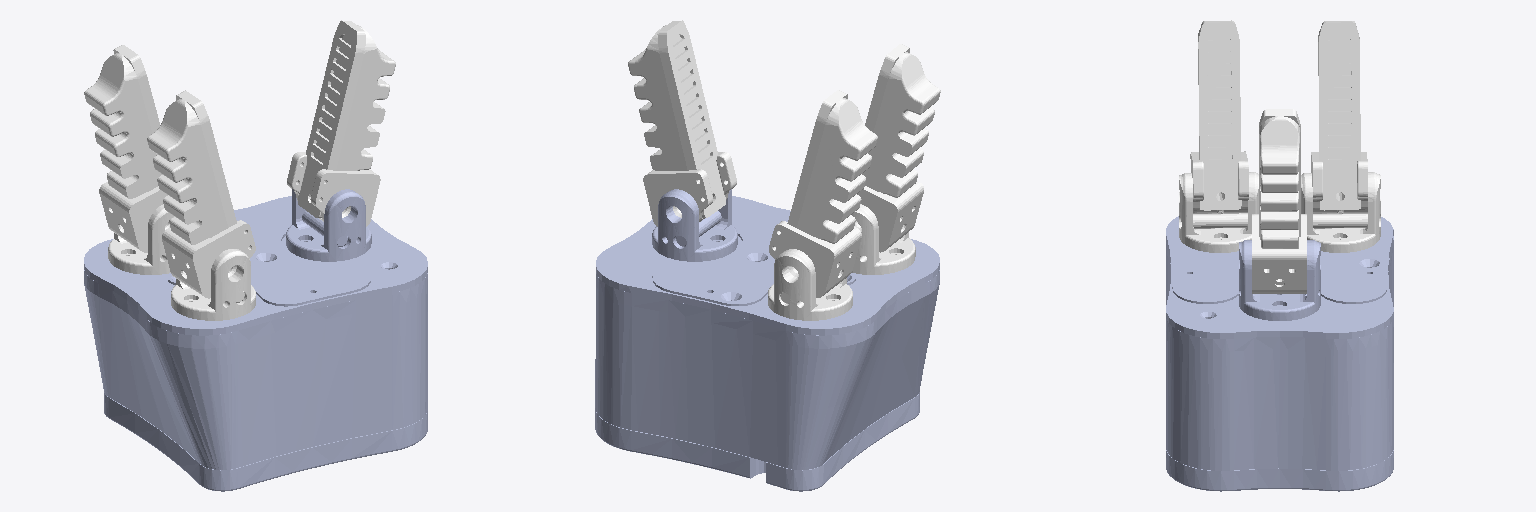
robot.urdf — soft_pneu_3f:
<?xml version="1.0"?>
<!-- This URDF was automatically created by SolidWorks to URDF Exporter! Originally created by [author] ([email redacted]) 
     Commit Version: 1.6.0-4-g7f85cfe  Build Version: 1.6.7995.38578
     For more information, please see http://wiki.ros.org/sw_urdf_exporter -->
<robot
  name="soft_pneu_3f">
  <link
    name="base_link">
    <inertial>
      <origin
        xyz="0.0131541798734828 -0.000471634914928765 -0.0423127669420445"
        rpy="0 0 0" />
      <mass
        value="0.205660698634823" />
      <inertia
        ixx="0.000192315167570555"
        ixy="-1.15068431190436E-06"
        ixz="1.69230599129777E-06"
        iyy="0.000263915292773764"
        iyz="-1.06013960817424E-07"
        izz="0.000427981494608484" />
    </inertial>
    <visual>
      <origin
        xyz="0 0 0"
        rpy="0 0 0" />
      <geometry>
        <mesh
          filename="../meshes/base_link.STL" />
      </geometry>
      <material
        name="">
        <color
          rgba="0.792156862745098 0.819607843137255 0.933333333333333 1" />
      </material>
    </visual>
    <collision>
      <origin
        xyz="0 0 0"
        rpy="0 0 0" />
      <geometry>
        <mesh
          filename="../meshes/base_link.STL" />
      </geometry>
    </collision>
  </link>
  <link
    name="finger_2_base_link">
    <inertial>
      <origin
        xyz="0.000260113638473905 1.47444704605461E-05 -0.0118165286355485"
        rpy="0 0 0" />
      <mass
        value="0.00842338640193416" />
      <inertia
        ixx="1.63029334821424E-06"
        ixy="-1.02164145750623E-12"
        ixz="6.26927679377401E-11"
        iyy="9.46119710225861E-07"
        iyz="-1.51869082341787E-12"
        izz="1.54934623072568E-06" />
    </inertial>
    <visual>
      <origin
        xyz="0 0 0"
        rpy="0 0 0" />
      <geometry>
        <mesh
          filename="../meshes/finger_2_base_link.STL" />
      </geometry>
      <material
        name="">
        <color
          rgba="1 1 1 1" />
      </material>
    </visual>
    <collision>
      <origin
        xyz="0 0 0"
        rpy="0 0 0" />
      <geometry>
        <mesh
          filename="../meshes/finger_2_base_link.STL" />
      </geometry>
    </collision>
  </link>
  <joint
    name="finger_2_base_joint"
    type="revolute">
    <origin
      xyz="-0.030397 -0.026 0.019442"
      rpy="0 0 0.04346" />
    <parent
      link="base_link" />
    <child
      link="finger_2_base_link" />
    <axis
      xyz="0 0 1" />
    <limit
      lower="0"
      upper="1.05"
      effort="1.05"
      velocity="1.05" />
  </joint>
  <link
    name="finger_2_link">
    <inertial>
      <origin
        xyz="-0.000606522842535654 -0.0271229441031055 3.7464613043825E-09"
        rpy="0 0 0" />
      <mass
        value="0.0329159584196421" />
      <inertia
        ixx="1.4961949033254E-05"
        ixy="5.96822866571971E-07"
        ixz="-6.74019588493649E-13"
        iyy="2.5989868355547E-06"
        iyz="7.66610071198957E-10"
        izz="1.52193551596192E-05" />
    </inertial>
    <visual>
      <origin
        xyz="0 0 0"
        rpy="0 0 0" />
      <geometry>
        <mesh
          filename="../meshes/finger_2_link.STL" />
      </geometry>
      <material
        name="">
        <color
          rgba="1 1 1 1" />
      </material>
    </visual>
    <collision>
      <origin
        xyz="0 0 0"
        rpy="0 0 0" />
      <geometry>
        <mesh
          filename="../meshes/finger_2_link.STL" />
      </geometry>
    </collision>
  </link>
  <joint
    name="finger_2_joint"
    type="revolute">
    <origin
      xyz="0 0 0"
      rpy="-1.5708 -0.2618 0" />
    <parent
      link="finger_2_base_link" />
    <child
      link="finger_2_link" />
    <axis
      xyz="0 0 1" />
    <limit
      lower="0"
      upper="0.785"
      effort="0.785"
      velocity="0.785" />
  </joint>
  <link
    name="finger_3_base_link">
    <inertial>
      <origin
        xyz="0.000260113638473825 -1.47444704608202E-05 0.0118165286355485"
        rpy="0 0 0" />
      <mass
        value="0.00842338640193382" />
      <inertia
        ixx="1.63029334821422E-06"
        ixy="1.02164146299871E-12"
        ixz="-6.26927679364469E-11"
        iyy="9.46119710225856E-07"
        iyz="-1.51869081931017E-12"
        izz="1.54934623072566E-06" />
    </inertial>
    <visual>
      <origin
        xyz="0 0 0"
        rpy="0 0 0" />
      <geometry>
        <mesh
          filename="../meshes/finger_3_base_link.STL" />
      </geometry>
      <material
        name="">
        <color
          rgba="1 1 1 1" />
      </material>
    </visual>
    <collision>
      <origin
        xyz="0 0 0"
        rpy="0 0 0" />
      <geometry>
        <mesh
          filename="../meshes/finger_3_base_link.STL" />
      </geometry>
    </collision>
  </link>
  <joint
    name="finger_3_base_joint"
    type="revolute">
    <origin
      xyz="-0.030397 0.026 0.019442"
      rpy="3.1416 0 0.02713" />
    <parent
      link="base_link" />
    <child
      link="finger_3_base_link" />
    <axis
      xyz="0 0 1" />
    <limit
      lower="0"
      upper="1.05"
      effort="1.05"
      velocity="1.05" />
  </joint>
  <link
    name="finger_3_link">
    <inertial>
      <origin
        xyz="-0.000606522821180875 -0.0271229448611613 4.05394303543138E-09"
        rpy="0 0 0" />
      <mass
        value="0.032915958216665" />
      <inertia
        ixx="1.49619487626691E-05"
        ixy="5.96822895460657E-07"
        ixz="-6.8395921133323E-13"
        iyy="2.59898682481549E-06"
        iyz="7.6656295167405E-10"
        izz="1.52193549073691E-05" />
    </inertial>
    <visual>
      <origin
        xyz="0 0 0"
        rpy="0 0 0" />
      <geometry>
        <mesh
          filename="../meshes/finger_3_link.STL" />
      </geometry>
      <material
        name="">
        <color
          rgba="1 1 1 1" />
      </material>
    </visual>
    <collision>
      <origin
        xyz="0 0 0"
        rpy="0 0 0" />
      <geometry>
        <mesh
          filename="../meshes/finger_3_link.STL" />
      </geometry>
    </collision>
  </link>
  <joint
    name="finger_3_joint"
    type="revolute">
    <origin
      xyz="0 0 0"
      rpy="1.5708 0.2618 0" />
    <parent
      link="finger_3_base_link" />
    <child
      link="finger_3_link" />
    <axis
      xyz="0 0 1" />
    <limit
      lower="0"
      upper="0.785"
      effort="0.785"
      velocity="0.785" />
  </joint>
  <link
    name="finger_1_link">
    <inertial>
      <origin
        xyz="-0.000606522776599436 -0.0271229460856177 4.5658476067653E-09"
        rpy="0 0 0" />
      <mass
        value="0.0329159577576176" />
      <inertia
        ixx="1.49619482963574E-05"
        ixy="5.96822947578499E-07"
        ixz="-7.00601324088031E-13"
        iyy="2.59898680226389E-06"
        iyz="7.66483433651086E-10"
        izz="1.52193544735605E-05" />
    </inertial>
    <visual>
      <origin
        xyz="0 0 0"
        rpy="0 0 0" />
      <geometry>
        <mesh
          filename="../meshes/finger_1_link.STL" />
      </geometry>
      <material
        name="">
        <color
          rgba="1 1 1 1" />
      </material>
    </visual>
    <collision>
      <origin
        xyz="0 0 0"
        rpy="0 0 0" />
      <geometry>
        <mesh
          filename="../meshes/finger_1_link.STL" />
      </geometry>
    </collision>
  </link>
  <joint
    name="finger_1_joint"
    type="revolute">
    <origin
      xyz="0.04 0 0.019792"
      rpy="-1.5708 -0.2618 3.1416" />
    <parent
      link="base_link" />
    <child
      link="finger_1_link" />
    <axis
      xyz="0 0 1" />
    <limit
      lower="0"
      upper="0.785"
      effort="0.785"
      velocity="0.785" />
  </joint>
</robot>

--- Facts derived from the render (not from the file) ---
Views: 3 orthographic renders of the robot side by side, from view 1: azimuth 30°, elevation 25°; view 2: azimuth 150°, elevation 25°; view 3: azimuth 270°, elevation 25°.
Model soft_pneu_3f with 6 links and 5 joints (5 revolute), rooted at base_link, posed every joint at zero.
Visible links, largest first — view 1: base_link, finger_1_link, finger_2_link, finger_3_link, finger_2_base_link, finger_3_base_link; view 2: base_link, finger_1_link, finger_3_link, finger_2_link, finger_3_base_link, finger_2_base_link; view 3: base_link, finger_2_link, finger_3_link, finger_1_link, finger_3_base_link, finger_2_base_link.
Boxes of the visible links, box(x1,y1,x2,y2) form: base_link: box(84, 189, 427, 491); finger_1_link: box(287, 20, 395, 226); finger_2_link: box(147, 90, 255, 298); finger_3_link: box(84, 45, 169, 252); finger_2_base_link: box(171, 249, 255, 320); finger_3_base_link: box(108, 204, 173, 274); base_link: box(595, 189, 939, 491); finger_1_link: box(628, 20, 736, 226); finger_3_link: box(769, 90, 877, 297); finger_2_link: box(854, 44, 940, 252); finger_3_base_link: box(768, 249, 852, 320); finger_2_base_link: box(852, 204, 915, 274); base_link: box(1166, 216, 1393, 491); finger_2_link: box(1190, 20, 1248, 213); finger_3_link: box(1311, 21, 1367, 213); finger_1_link: box(1252, 109, 1306, 293); finger_3_base_link: box(1301, 172, 1380, 252); finger_2_base_link: box(1179, 172, 1258, 252).
Bounding box of the posed robot: 0.1292 × 0.0992 × 0.1741 m (x, y, z).
6 mesh visuals loaded from 6 distinct referenced files (6 binary STL).